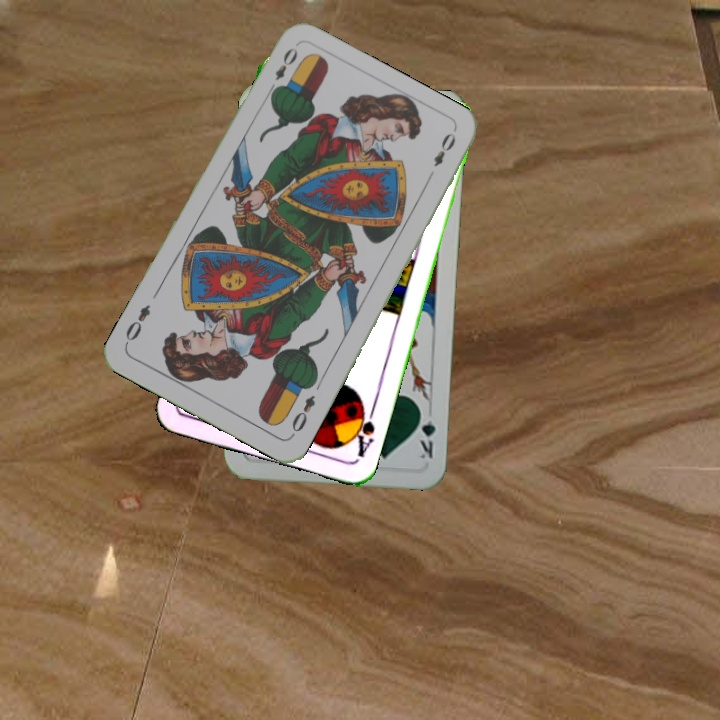EO: (264, 43, 301, 97), (287, 391, 318, 439)
GK: (416, 404, 439, 462)
SA: (346, 400, 378, 460)
